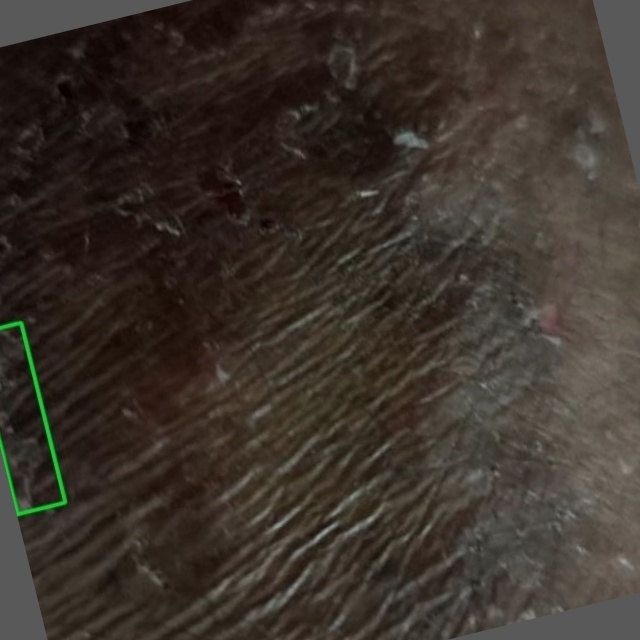Tinea Corporis: (0, 322, 65, 514)
